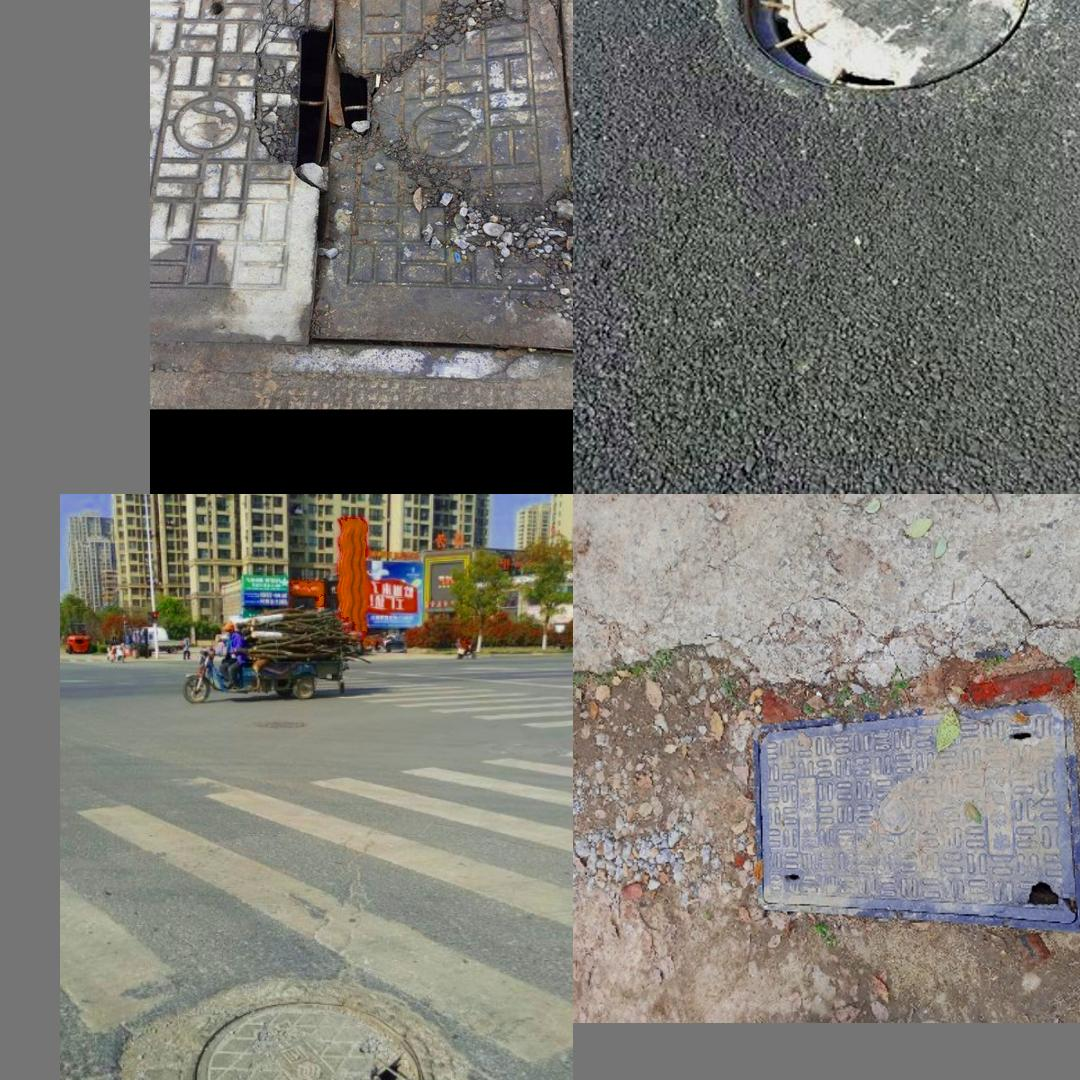broke: (155, 0, 572, 388), (752, 699, 1080, 930), (708, 0, 1051, 122), (178, 994, 433, 1080)
